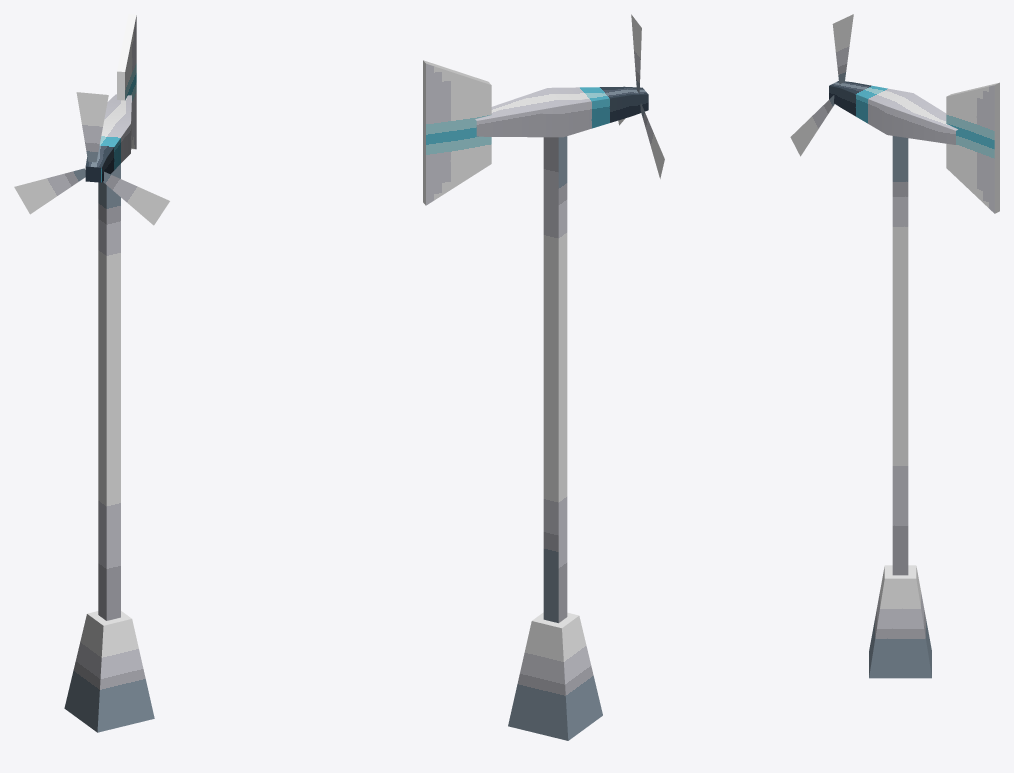
Rendered from Windmill.obj.
The picture shows the model from 3 angles, left to right: view 1: azimuth 30°, elevation 25°; view 2: azimuth 150°, elevation 25°; view 3: azimuth 270°, elevation 25°; orthographic projection. The views are drawn at different scales.
Visible parts, largest first — view 1: polygon0, polygon2, polygon1; view 2: polygon0, polygon1, polygon2; view 3: polygon0, polygon1, polygon2.
Part boxes in pixels (x1,y1,x2,y2): polygon0: (64, 164, 154, 732); polygon2: (14, 92, 169, 225); polygon1: (85, 14, 136, 182); polygon0: (508, 136, 602, 740); polygon1: (423, 60, 648, 205); polygon2: (618, 14, 664, 178); polygon0: (869, 136, 931, 678); polygon1: (829, 81, 999, 213); polygon2: (790, 14, 853, 156).
Size of the model in its own units: 39.92 by 88.22 by 38.85.
Materials: 1 (1 with a texture image).
